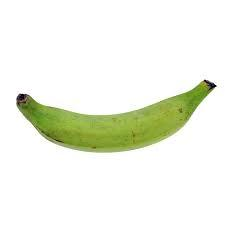Banana Unripe: (12, 49, 221, 176)
